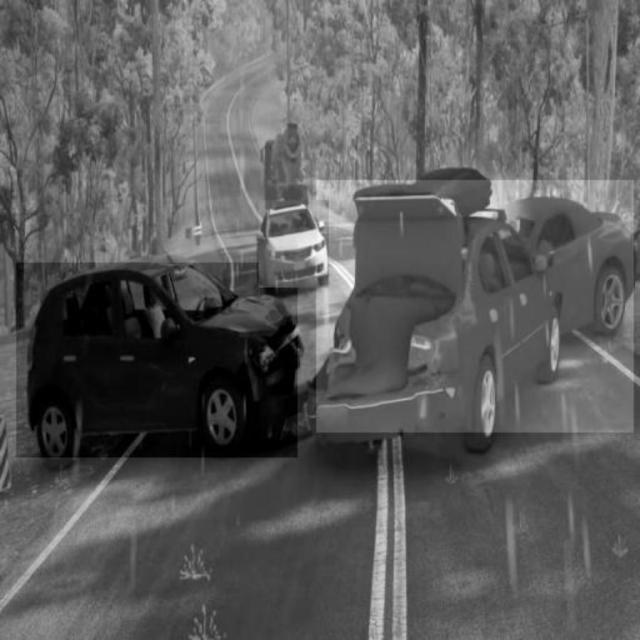accident: (317, 180, 634, 432)
vehicle: (17, 263, 298, 458), (259, 200, 329, 288)
